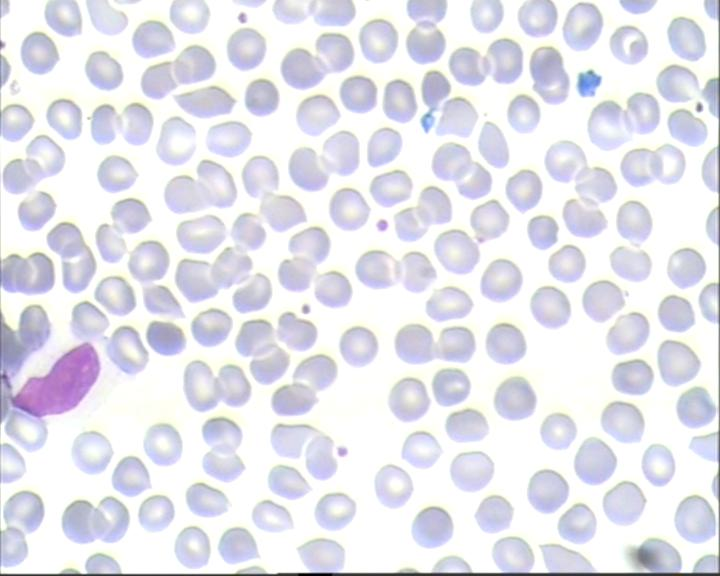mono: (4, 331, 116, 423)
